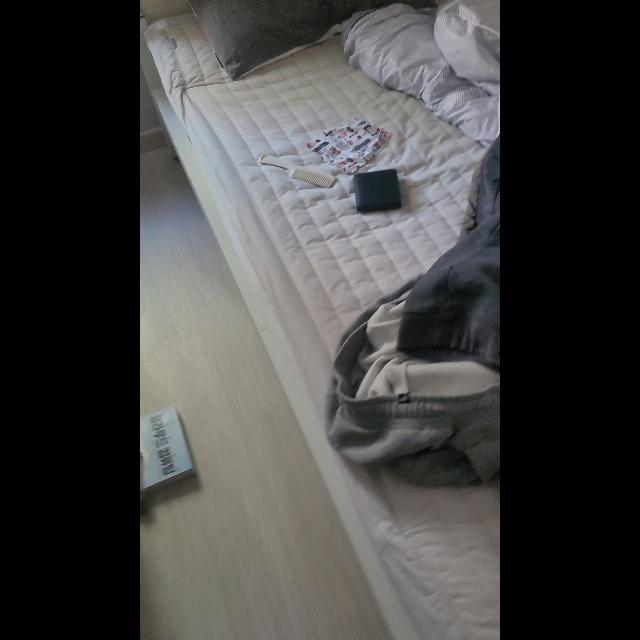COMB: (259, 156, 335, 188)
Glasses cleaning cloth: (306, 116, 392, 174)
WALLET: (353, 170, 401, 212)
